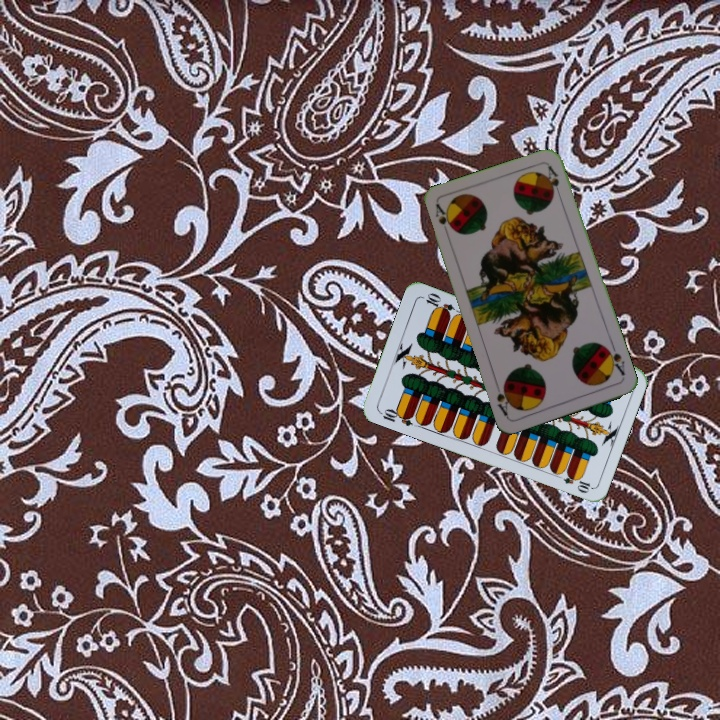E10: (375, 404, 416, 429)
SA: (601, 340, 628, 378), (431, 200, 455, 239)
